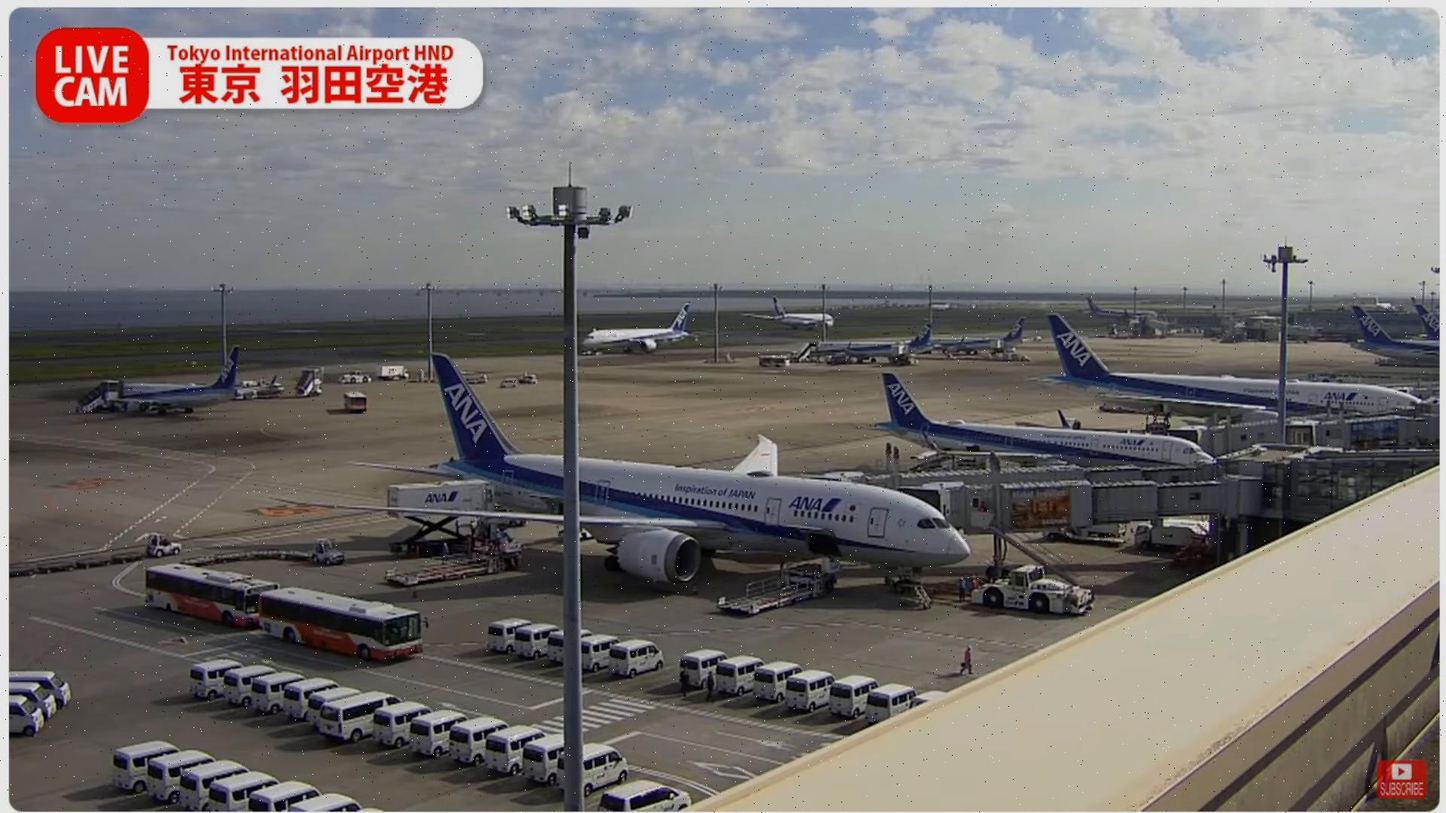APS: (969, 564, 1106, 619)
Aerobridge: (899, 476, 1264, 540), (843, 457, 1217, 496)
Airplane: (330, 354, 973, 599)
Catering: (383, 475, 497, 555)
Dolly: (9, 546, 151, 576), (180, 547, 312, 566)
JCPL: (699, 546, 848, 617), (383, 526, 526, 590)
Tractor: (314, 535, 344, 567), (149, 531, 182, 559)
Window: (1290, 456, 1440, 523)
